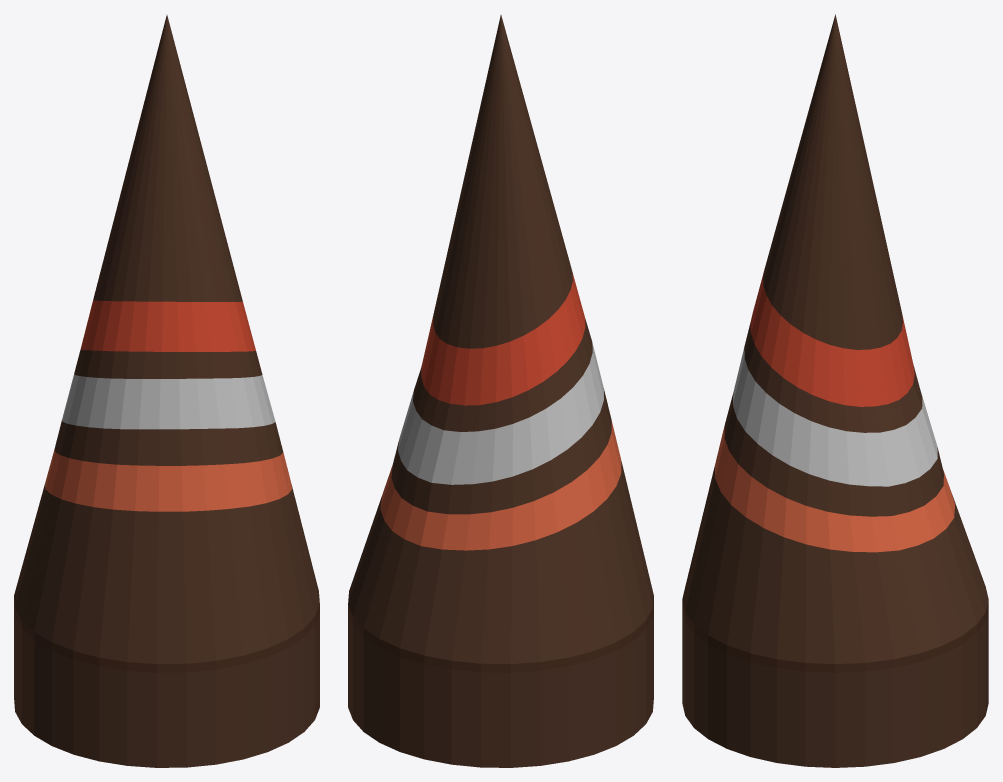
The model's file is Ice Cream Cone Chocolate.fbx.
The picture shows the model from 3 angles, left to right: view 1: azimuth 30°, elevation 25°; view 2: azimuth 150°, elevation 25°; view 3: azimuth 270°, elevation 25°; orthographic projection.
Parts seen in each view (by area): view 1: Ice Cream Cone Chocolate; view 2: Ice Cream Cone Chocolate; view 3: Ice Cream Cone Chocolate.
Part boxes in pixels (x1=…): Ice Cream Cone Chocolate: x1=14, y1=15, x2=319, y2=767; Ice Cream Cone Chocolate: x1=348, y1=15, x2=653, y2=767; Ice Cream Cone Chocolate: x1=682, y1=14, x2=988, y2=767.
Bounding box in the file's own units: 14.28 × 35.84 × 14.28.
Materials: 1 (1 with a texture image).
